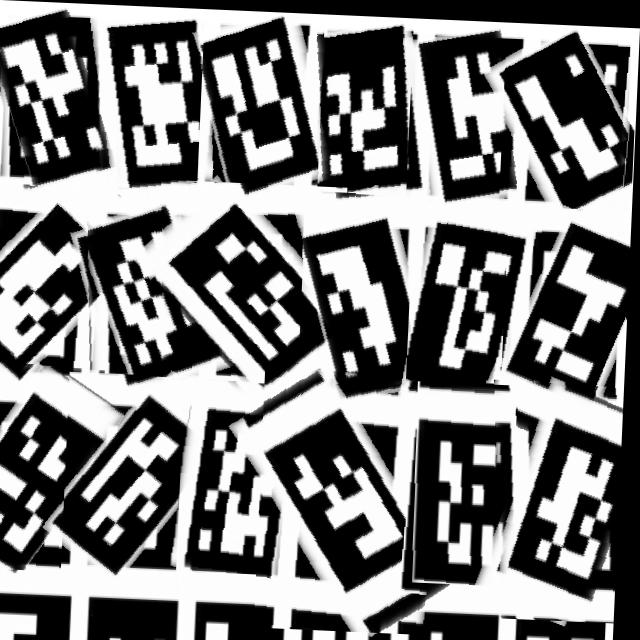aruco: (260, 361, 449, 631), (155, 178, 349, 426), (489, 375, 628, 617), (66, 371, 221, 583), (502, 201, 634, 444), (500, 18, 640, 230), (300, 187, 435, 393), (198, 7, 339, 203), (83, 198, 222, 395), (0, 181, 124, 393), (88, 3, 225, 190), (181, 376, 308, 573), (409, 205, 533, 400), (0, 360, 108, 572), (407, 21, 527, 206), (318, 15, 432, 205), (0, 0, 106, 204), (414, 377, 518, 582)
